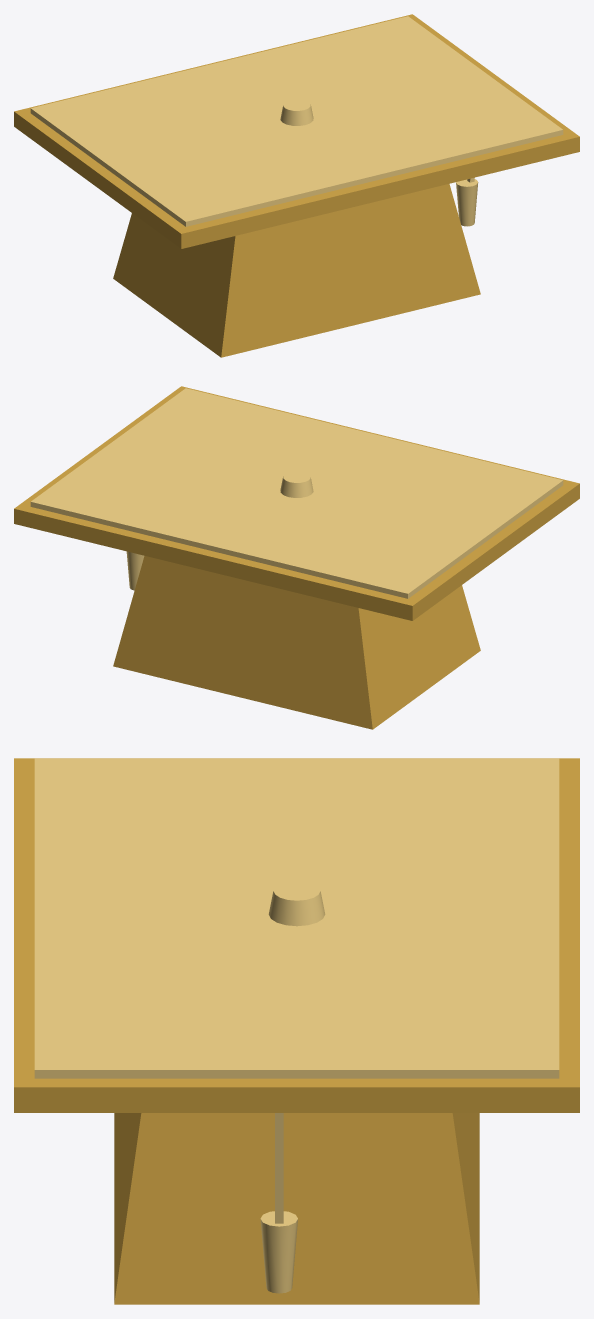
The model's file is toga_hat.glb.
The picture shows the model from 3 angles, top to bottom: view 1: azimuth 30°, elevation 25°; view 2: azimuth 150°, elevation 25°; view 3: azimuth 270°, elevation 25°; orthographic projection. The views are drawn at different scales.
Parts seen in each view (by area): view 1: board-trim, crown, board, tassel, button; view 2: board-trim, crown, board, button, tassel; view 3: board-trim, crown, board, tassel, button, tassel-cord.
Part boxes in pixels (x1=…): board-trim: x1=30, y1=16, x2=563, y2=226; crown: x1=113, y1=183, x2=480, y2=357; board: x1=14, y1=14, x2=579, y2=248; tassel: x1=456, y1=179, x2=478, y2=226; button: x1=280, y1=99, x2=313, y2=125; board-trim: x1=30, y1=388, x2=563, y2=598; crown: x1=113, y1=555, x2=480, y2=729; board: x1=14, y1=386, x2=579, y2=620; button: x1=280, y1=471, x2=313, y2=497; tassel: x1=126, y1=551, x2=144, y2=590; board-trim: x1=34, y1=758, x2=559, y2=1078; crown: x1=114, y1=1113, x2=479, y2=1304; board: x1=14, y1=758, x2=579, y2=1112; tassel: x1=260, y1=1211, x2=297, y2=1293; button: x1=268, y1=881, x2=325, y2=926; tassel-cord: x1=275, y1=1113, x2=283, y2=1223.
Bounding box in the file's own units: 6.6 × 2.87 × 4.8.
